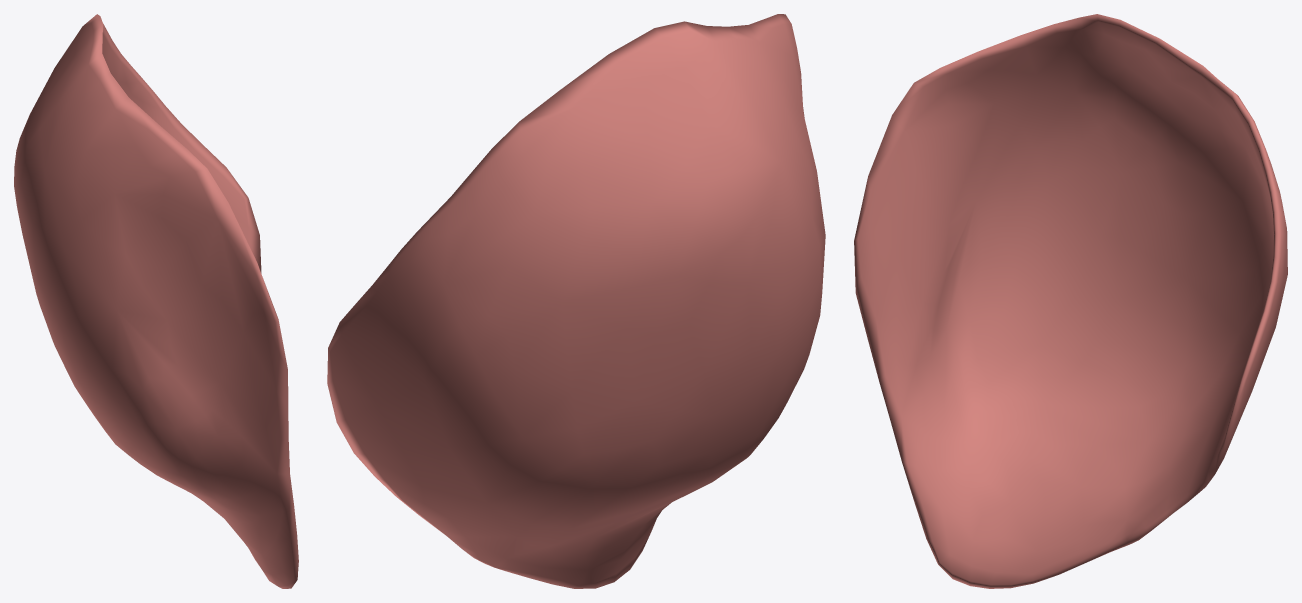
3 renders of one model, left to right at view 1: azimuth 30°, elevation 25°; view 2: azimuth 150°, elevation 25°; view 3: azimuth 270°, elevation 25°, orthographic. The views are drawn at different scales.
Visible parts, largest first — view 1: ZA_fa3032e788676d78; view 2: ZA_fa3032e788676d78; view 3: ZA_fa3032e788676d78.
Boxes of the visible parts, x1,y1,x2,y2 form: ZA_fa3032e788676d78: [14, 14, 298, 588]; ZA_fa3032e788676d78: [327, 14, 825, 588]; ZA_fa3032e788676d78: [854, 14, 1287, 588].
Bounding box in the file's own units: 0.0148 × 0.0249 × 0.0188.
